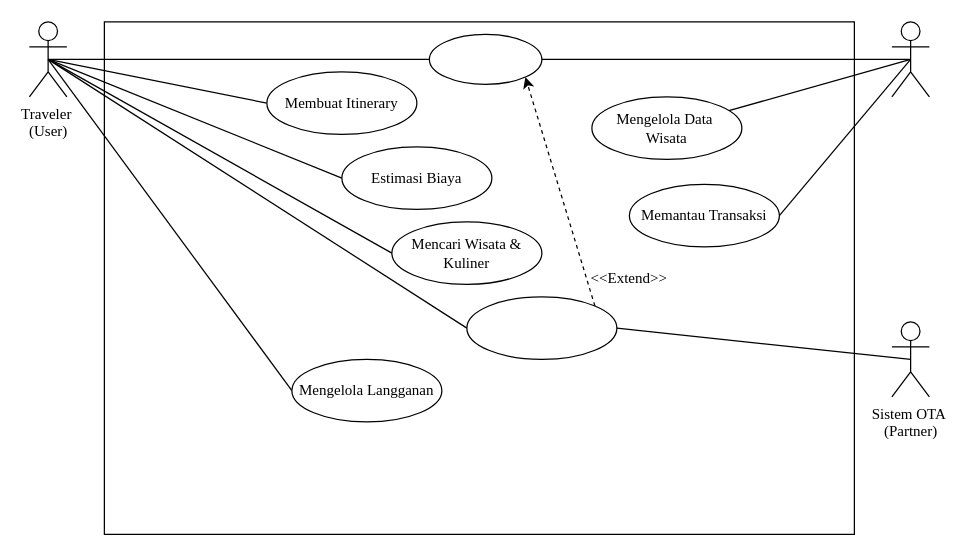
This 974x556 diagram has some shape labels left out. Each missing label, with the centre of its shape:
Administrator: (910,59)
Booking Penginapan: (541,327)
Melakukan Login: (485,58)
